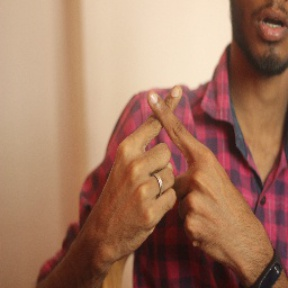X: (111, 74, 225, 183)
